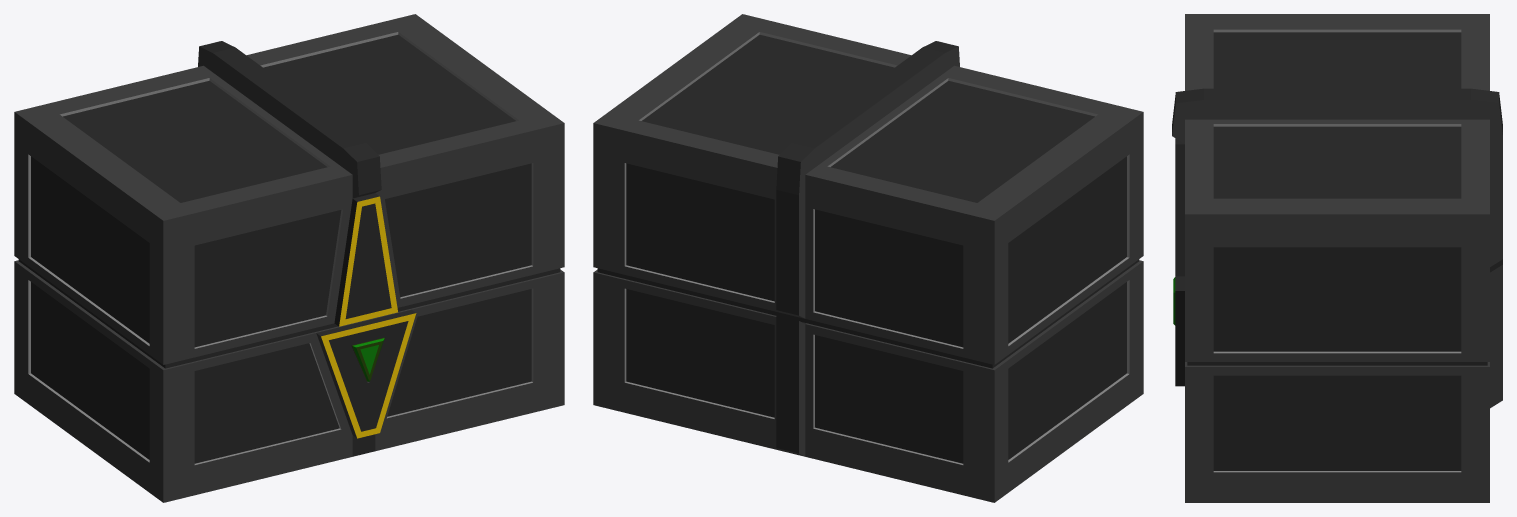
The model's file is ChestV2.fbx.
The picture shows the model from 3 angles, left to right: view 1: azimuth 30°, elevation 25°; view 2: azimuth 150°, elevation 25°; view 3: azimuth 270°, elevation 25°; orthographic projection. The views are drawn at different scales.
Parts seen in each view (by area): view 1: ChestV2_Top, ChestV2, ChestV2_Lock; view 2: ChestV2_Top, ChestV2; view 3: ChestV2_Top, ChestV2.
Boxes of the visible parts, <box> form: ChestV2_Top: <box>14,14,564,364</box>; ChestV2: <box>14,259,564,502</box>; ChestV2_Lock: <box>352,337,384,381</box>; ChestV2_Top: <box>593,14,1143,364</box>; ChestV2: <box>593,259,1143,502</box>; ChestV2_Top: <box>1172,14,1502,361</box>; ChestV2: <box>1175,259,1502,502</box>.
Bounding box in the file's own units: 74.4 × 53.44 × 51.95.
